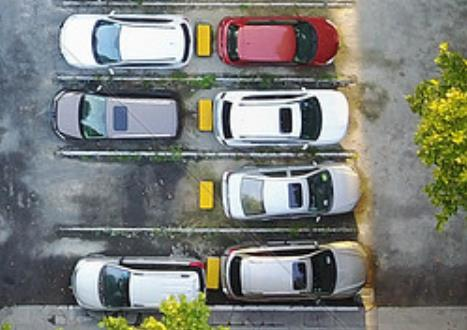car: (218, 241, 371, 307), (57, 6, 193, 75), (211, 87, 352, 152), (69, 252, 207, 318), (43, 82, 183, 146), (222, 161, 365, 221), (213, 13, 340, 68)
